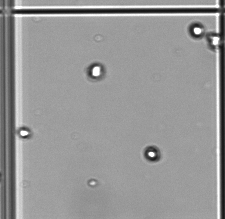Living Cell: (88, 62, 104, 79), (188, 22, 205, 38), (144, 146, 160, 161), (208, 32, 222, 48), (18, 127, 32, 139)
